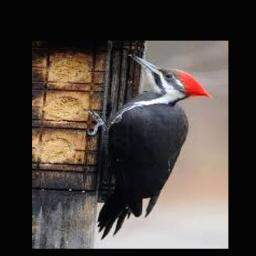Woodpecker: (86, 54, 212, 239)
